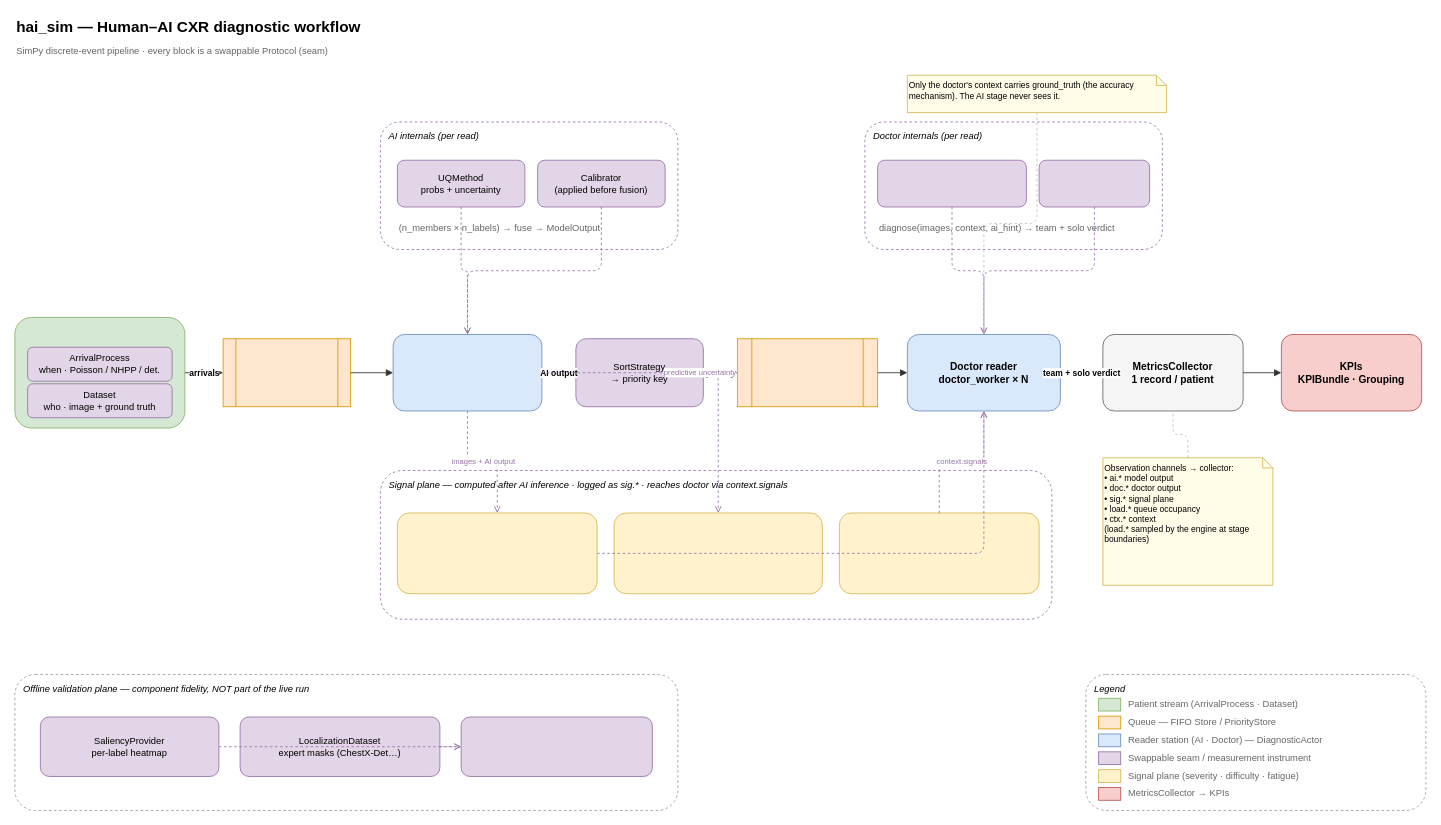
The diagram is 1441 pixels wide and 825 high, and some of its shapes have lost their labels. The centre of each missing label's shape, as x and y in pixels:
"AI reader model_worker × N" goes at point 467,372.
"DifficultyModel difficulty δ — induces human–AI error correlation ρ" goes at point 717,553.
"FatigueCurve fatigue — reader wear (per read)" goes at point 939,553.
"input_queue (FIFO Store)" goes at point 286,372.
"IntegrationPolicy doctor belief ⊕ AI hint" goes at point 951,183.
"LocalizationMetric pointing-game · IoU · Dice" goes at point 556,746.
"ServiceTimeModel read duration" goes at point 1094,183.
"SeverityModel severity — how much the case matters" goes at point 497,553.
"triaged_store (PriorityStore · triage)" goes at point 807,372.
